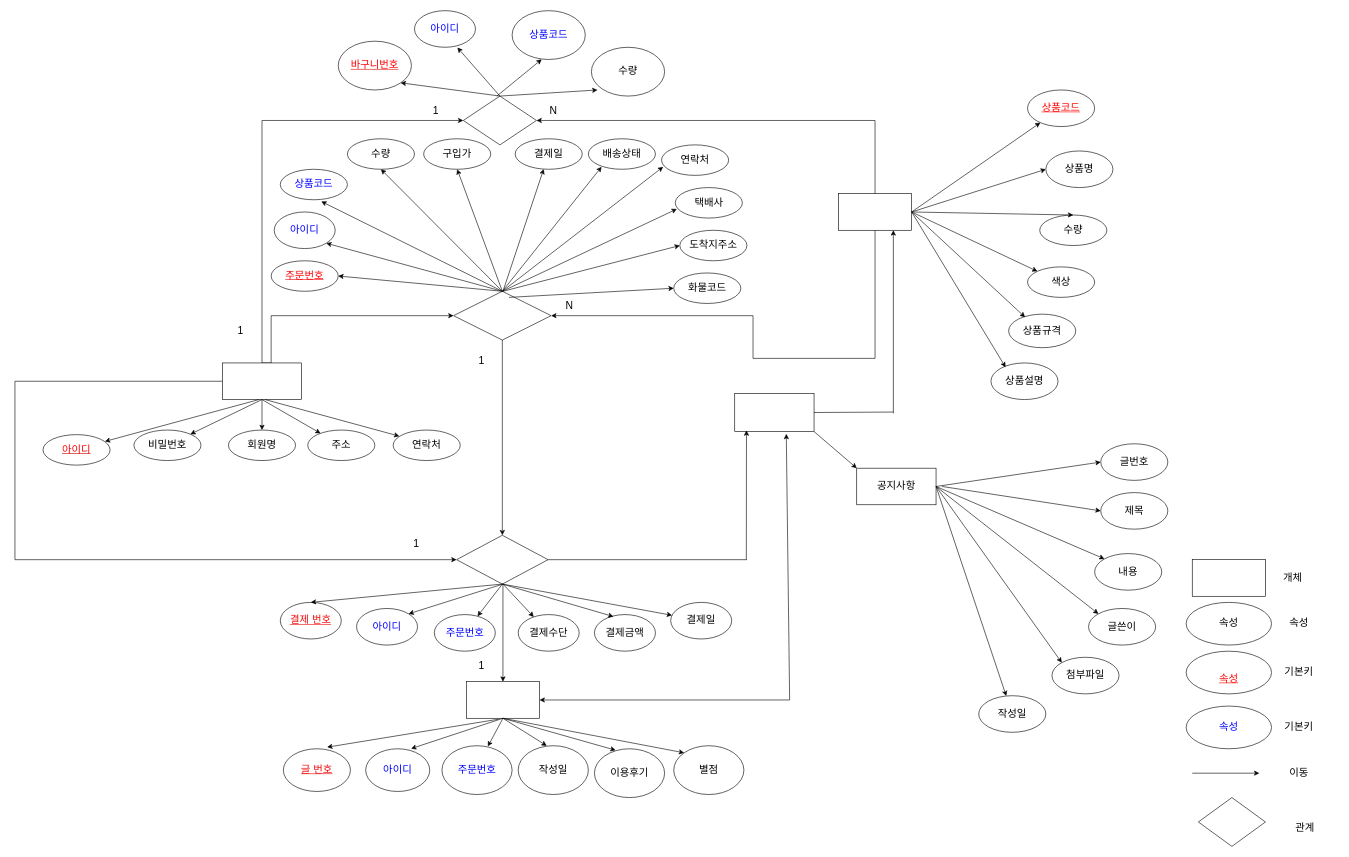
Some shapes in this 1349 by 857 pixel diagram are drawn without their labels. The shapes that lost their labels are listed below. From the top down, each one's centre as x and y in pixels, then its label:
At (499,120): "장바구니".
At (875,211): "상품".
At (502,315): "주문".
At (262,381): "회원".
At (774,412): "관리자".
At (502,559): "결제".
At (503,699): "리뷰".
